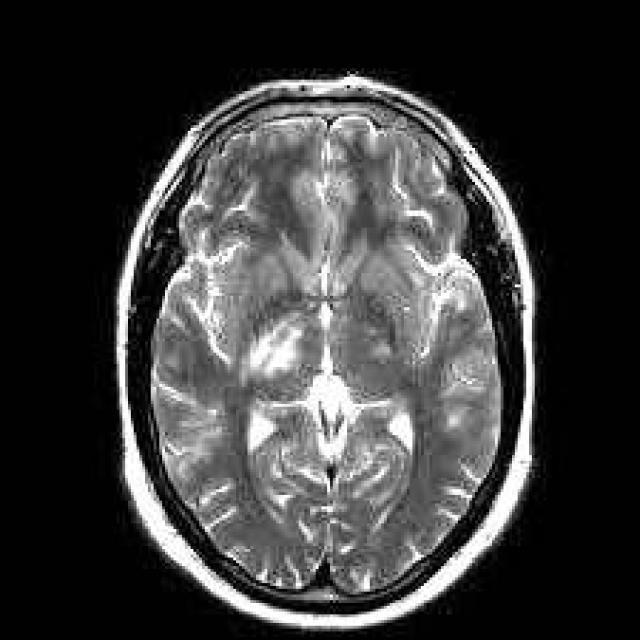notumor: (122, 77, 532, 629)
